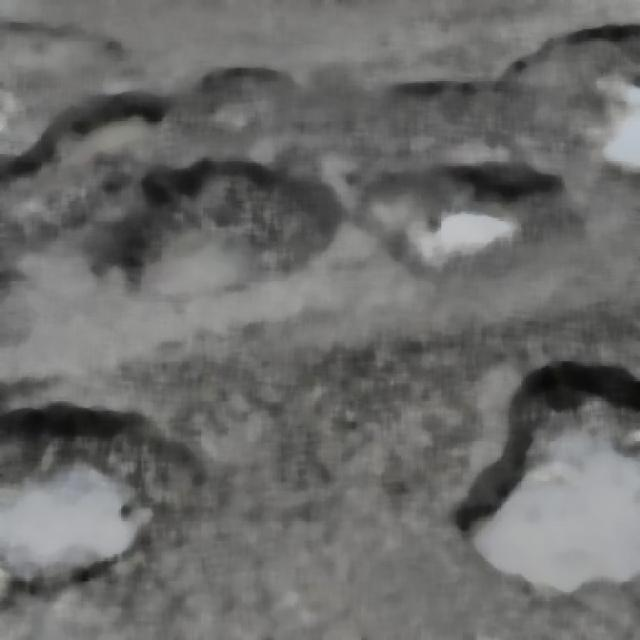Pothole: (455, 351, 639, 620), (0, 406, 168, 628), (122, 157, 289, 317), (542, 19, 640, 212), (362, 157, 543, 261)
